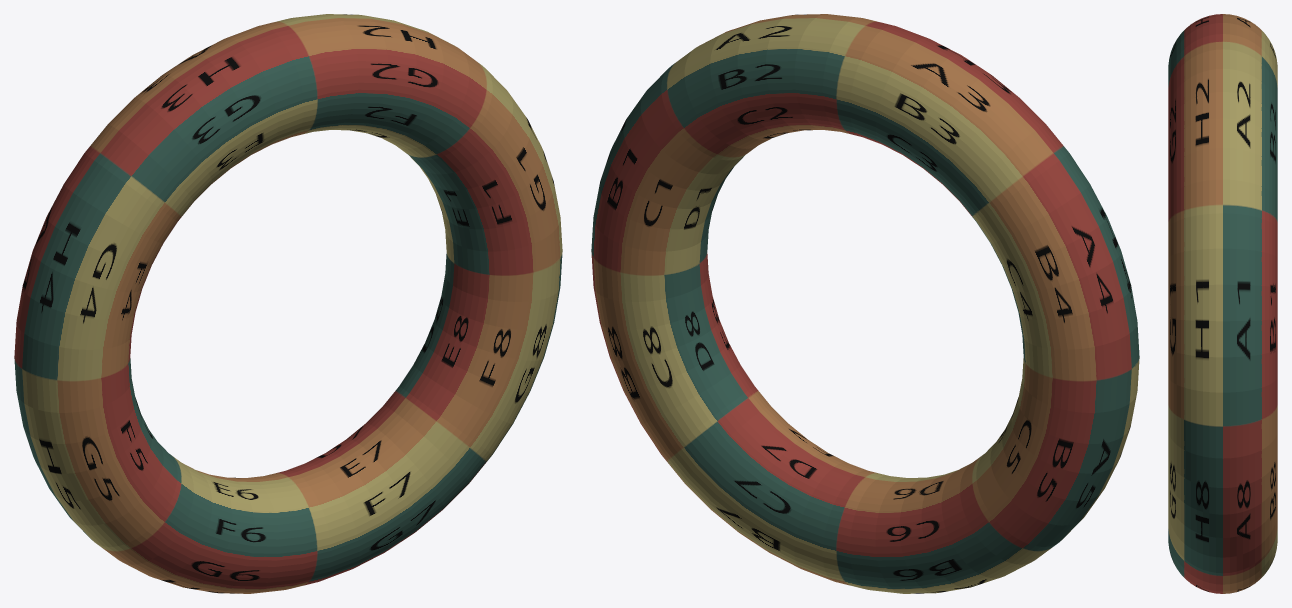
File: texture_torus_R22_r14.glb
3 renders of one model, left to right at view 1: azimuth 30°, elevation 25°; view 2: azimuth 150°, elevation 25°; view 3: azimuth 270°, elevation 25°, orthographic. The views are drawn at different scales.
Visible parts, largest first — view 1: world; view 2: world; view 3: world.
Boxes of the visible parts, box(x1,y1,x2,y2) form: world: box(14, 14, 562, 593); world: box(591, 14, 1139, 593); world: box(1168, 14, 1277, 593).
Size of the model in its own units: 30.4 by 30.34 by 5.72.
1 material, 1 textured.
